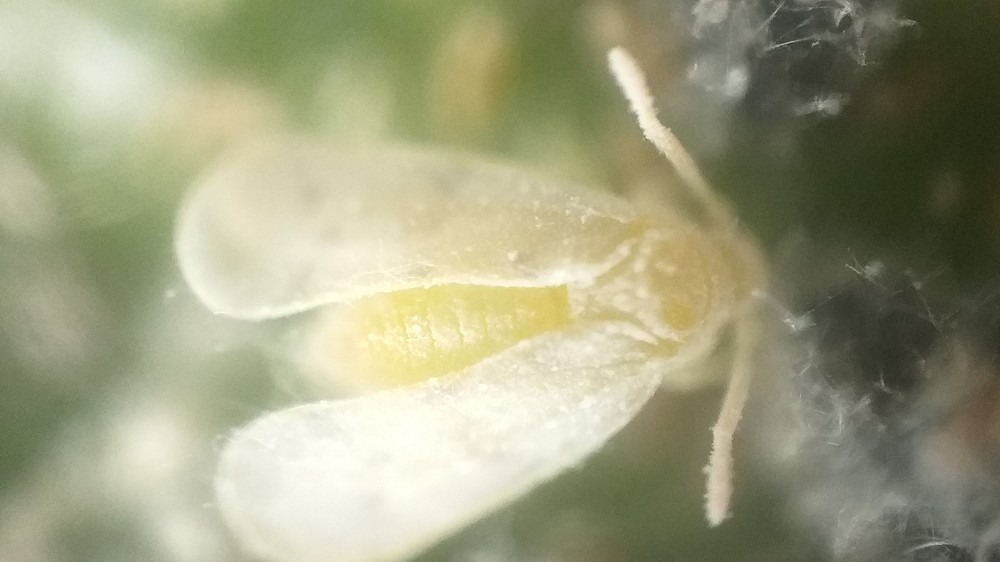Mosca Blanca: (138, 46, 774, 562)
